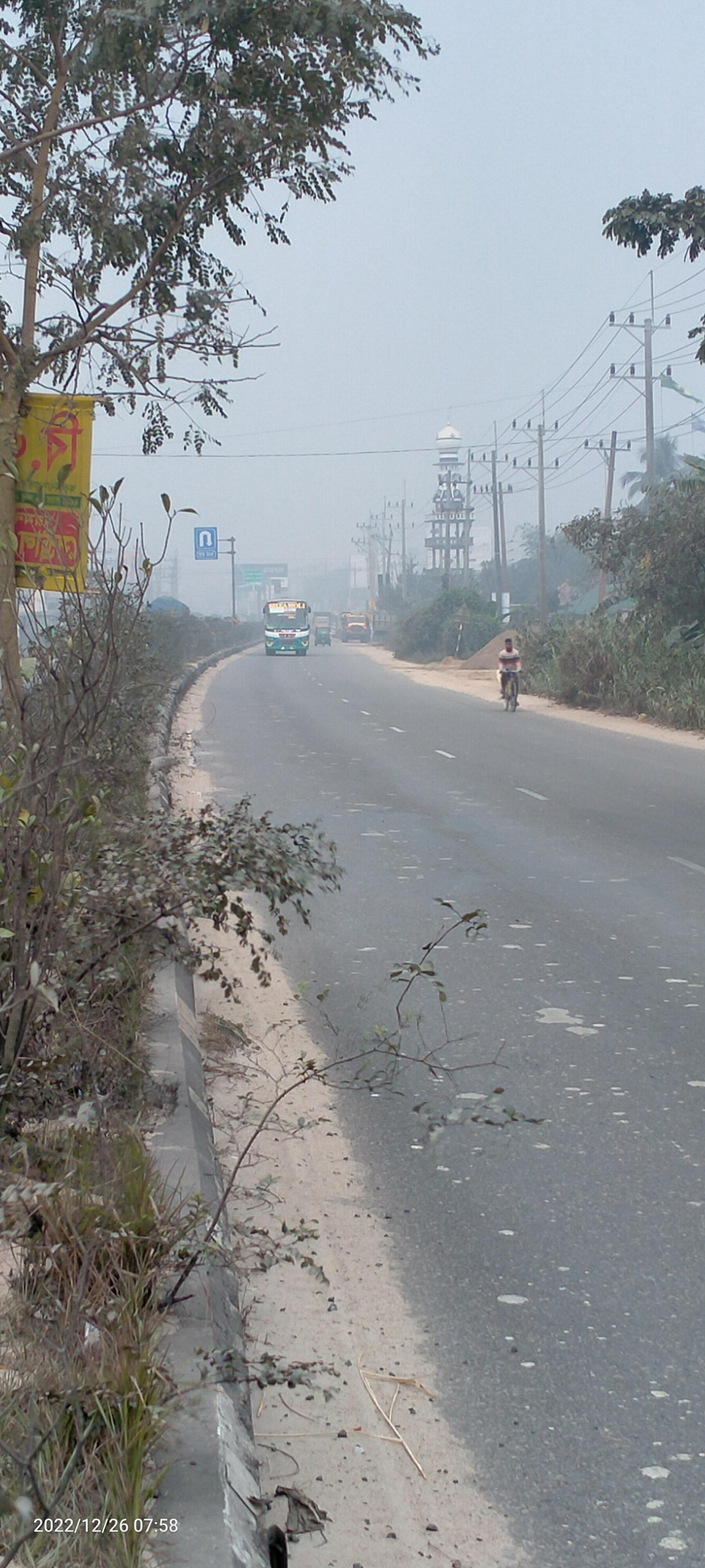Bus: (259, 595, 318, 662)
Truck: (335, 609, 376, 645)
